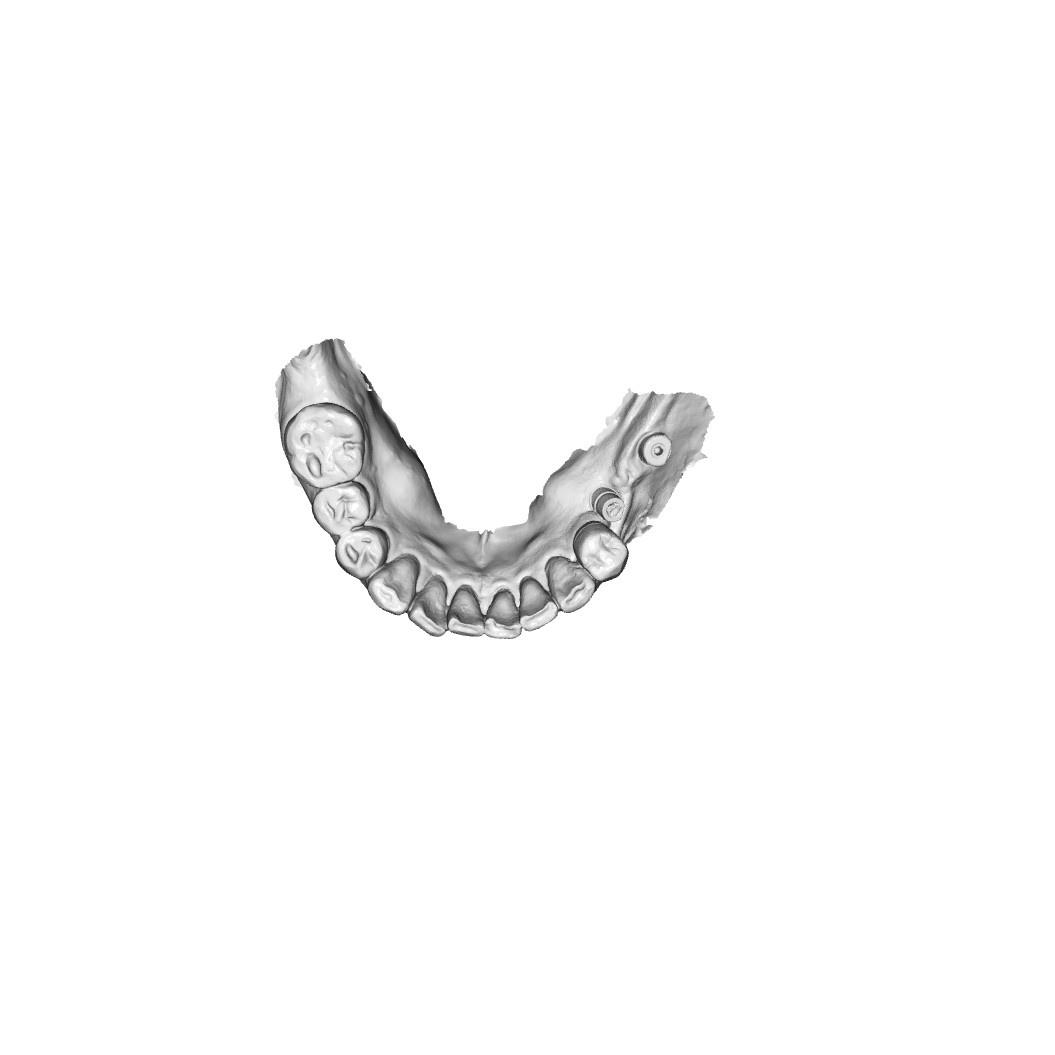canine: (552, 557, 597, 614), (374, 557, 416, 604)
implant: (643, 434, 674, 467), (597, 491, 628, 523)
incisor: (518, 581, 561, 628), (412, 581, 449, 634), (486, 592, 524, 638), (451, 588, 480, 632)
molar: (285, 404, 363, 483)
premolar: (314, 484, 374, 541), (578, 524, 627, 578), (338, 528, 382, 581)
